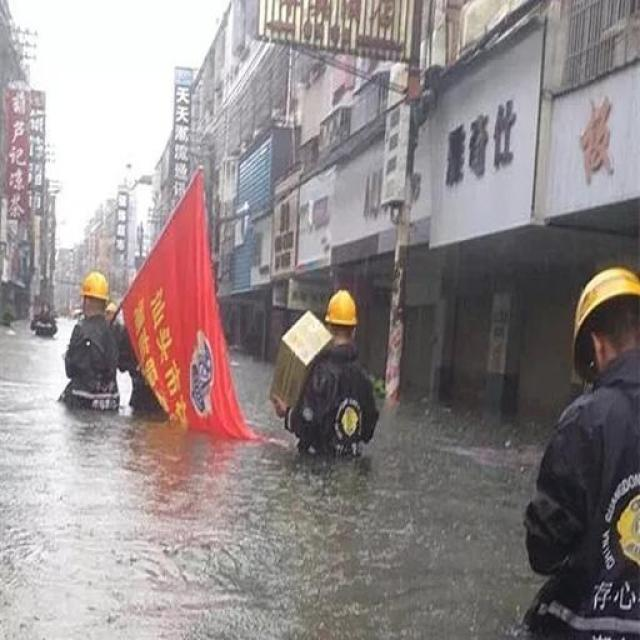rescuer: (487, 244, 640, 640), (259, 268, 415, 469)
